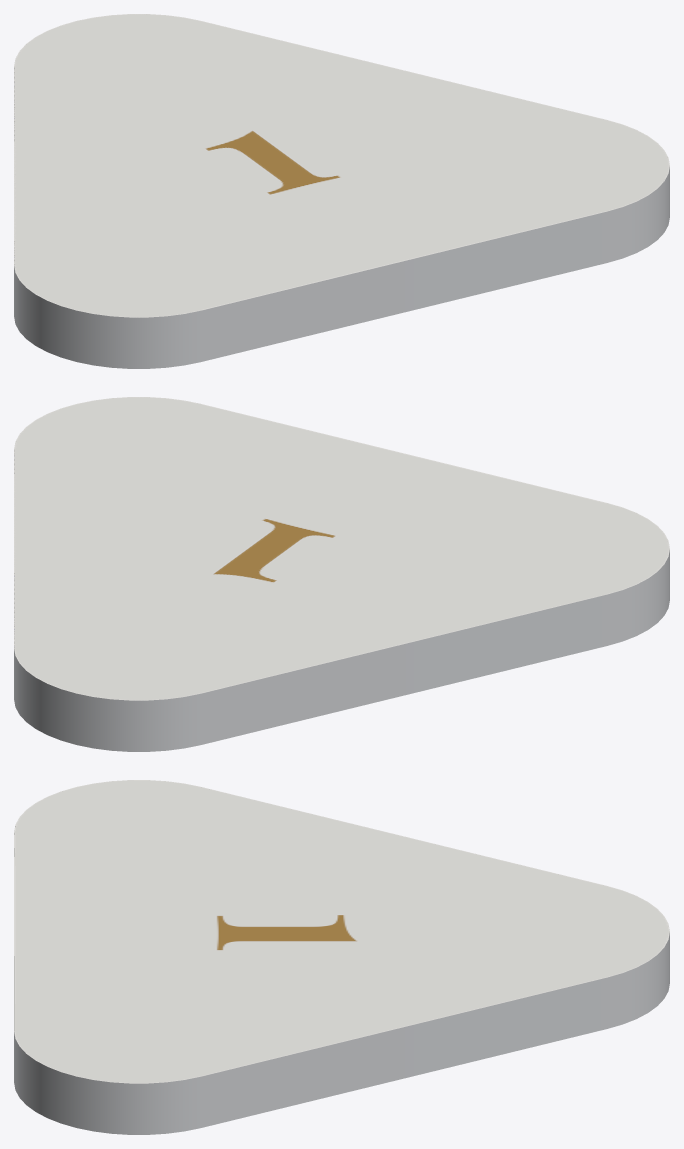
Rendered from tri_1.glb.
The picture shows the model from 3 angles, top to bottom: view 1: azimuth 30°, elevation 25°; view 2: azimuth 150°, elevation 25°; view 3: azimuth 270°, elevation 25°; orthographic projection.
Parts seen in each view (by area): view 1: tri_1; view 2: tri_1; view 3: tri_1.
Boxes of the visible parts, x1,y1,x2,y2 form: tri_1: (14, 14, 669, 368); tri_1: (14, 397, 669, 751); tri_1: (14, 780, 669, 1134).
Size of the model in its own units: 0.0304 by 0.0024 by 0.0277.
3 materials, 2 textured.
